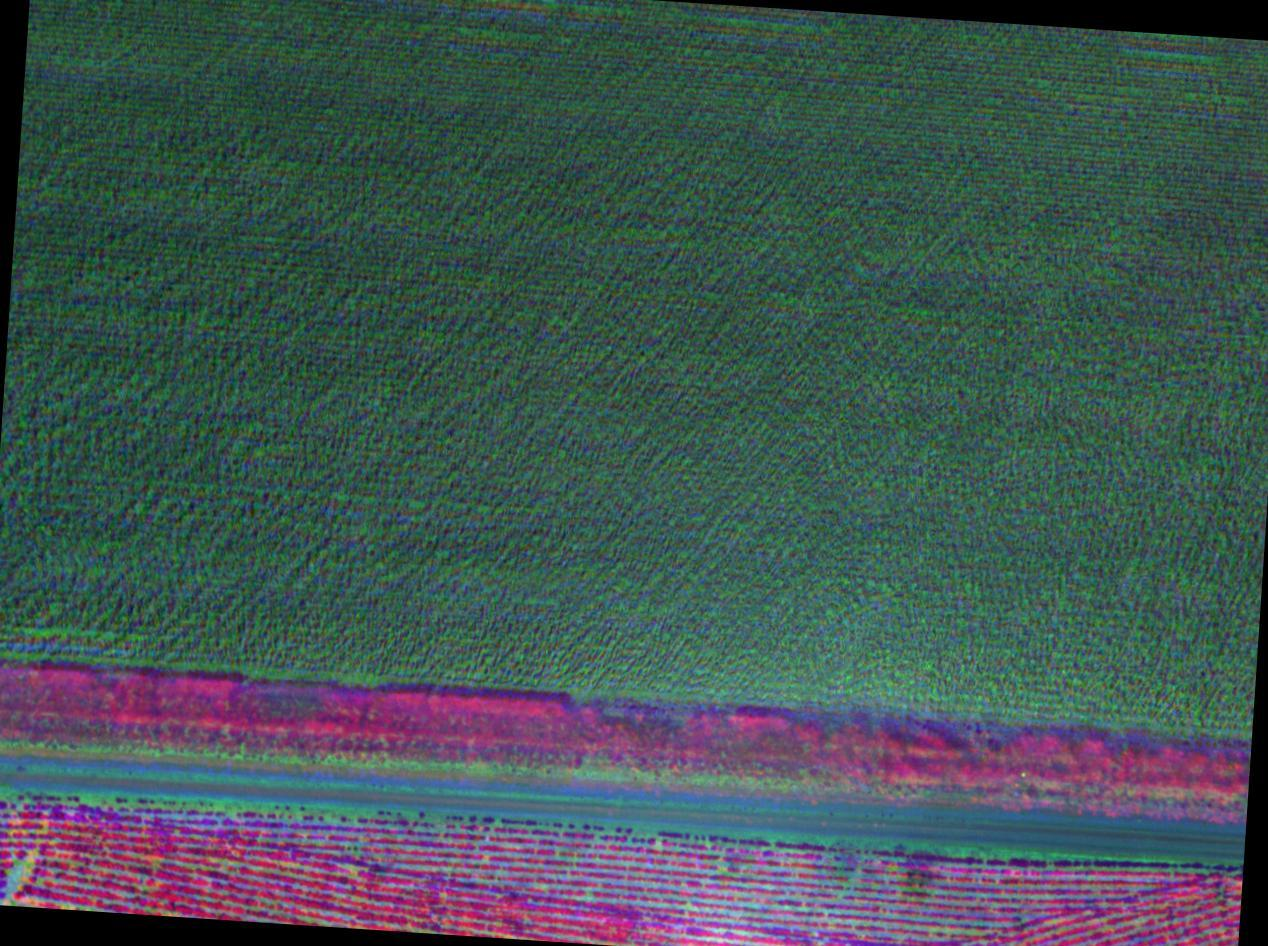dc: (873, 832, 980, 924), (2, 844, 49, 904)
